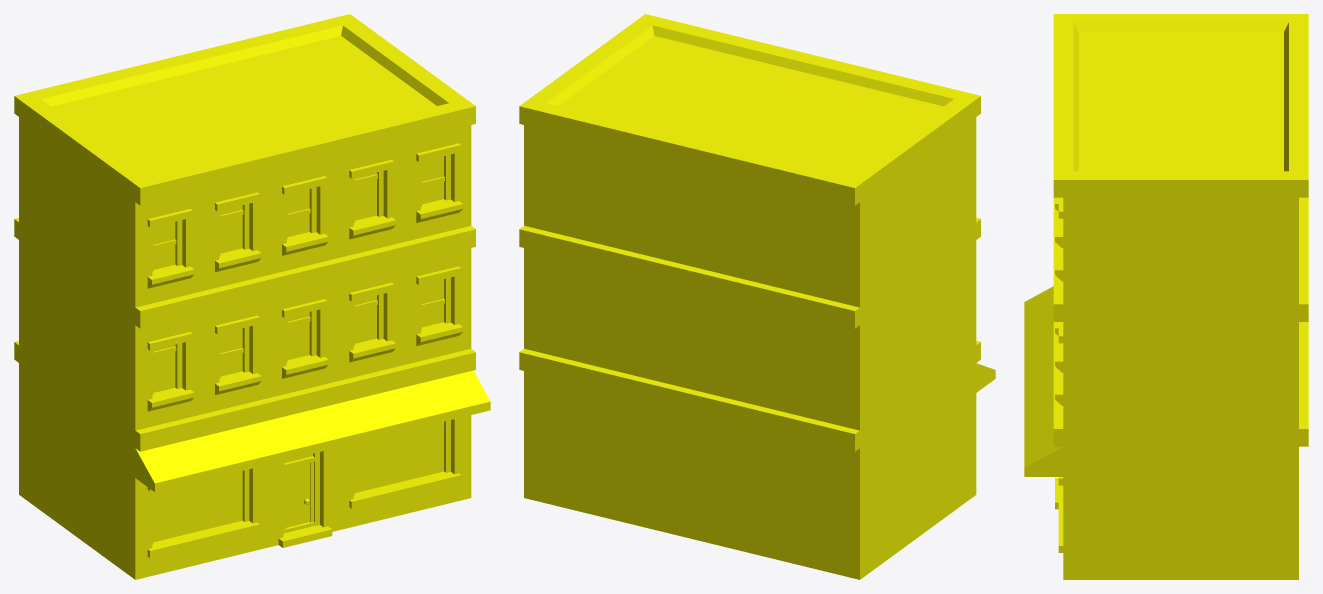
Rendered from kaykit-building-e-withoutbase.glb.
3 views of the same model, side by side, from view 1: azimuth 30°, elevation 25°; view 2: azimuth 150°, elevation 25°; view 3: azimuth 270°, elevation 25° (orthographic).
Parts seen in each view (by area): view 1: building_E_withoutBase; view 2: building_E_withoutBase; view 3: building_E_withoutBase.
Part boxes in pixels (<box>): building_E_withoutBase: <box>14,14,490,579</box>; building_E_withoutBase: <box>519,14,995,579</box>; building_E_withoutBase: <box>1024,14,1308,579</box>.
Size of the model in its own units: 2.01 by 2.25 by 1.45.
